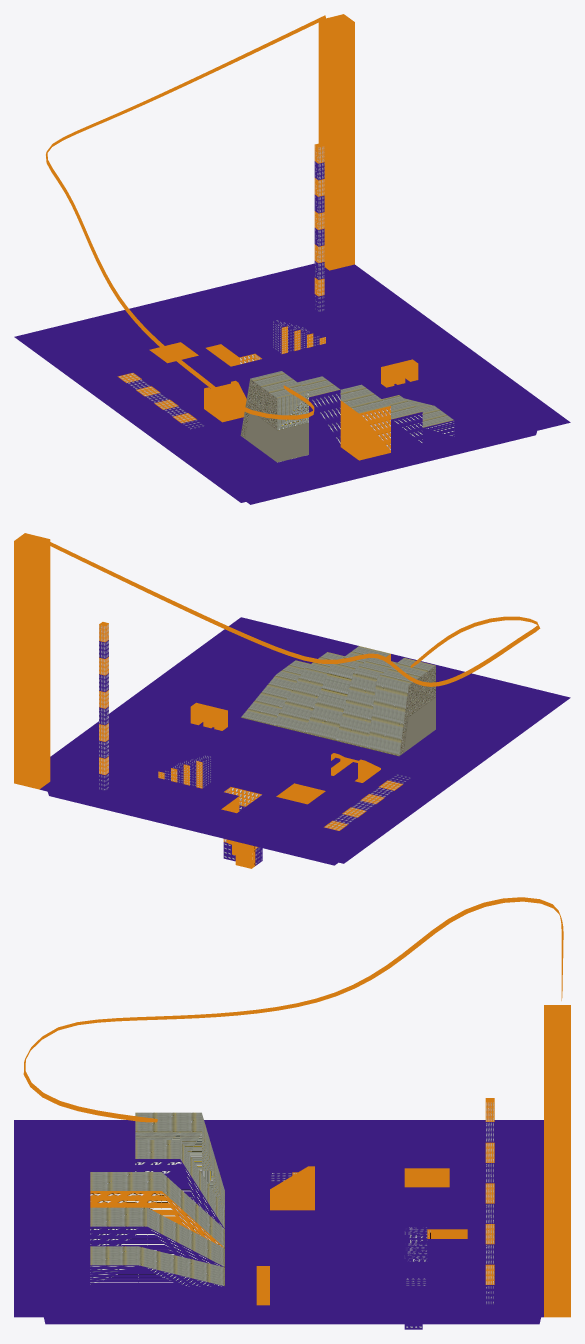
Rendered from BasicTest.obj.
The picture shows the model from 3 angles, top to bottom: view 1: azimuth 30°, elevation 25°; view 2: azimuth 150°, elevation 25°; view 3: azimuth 270°, elevation 25°; orthographic projection. The views are drawn at different scales.
Size of the model in its own units: 1040 by 1001 by 1240.
17 materials, 17 textured.
